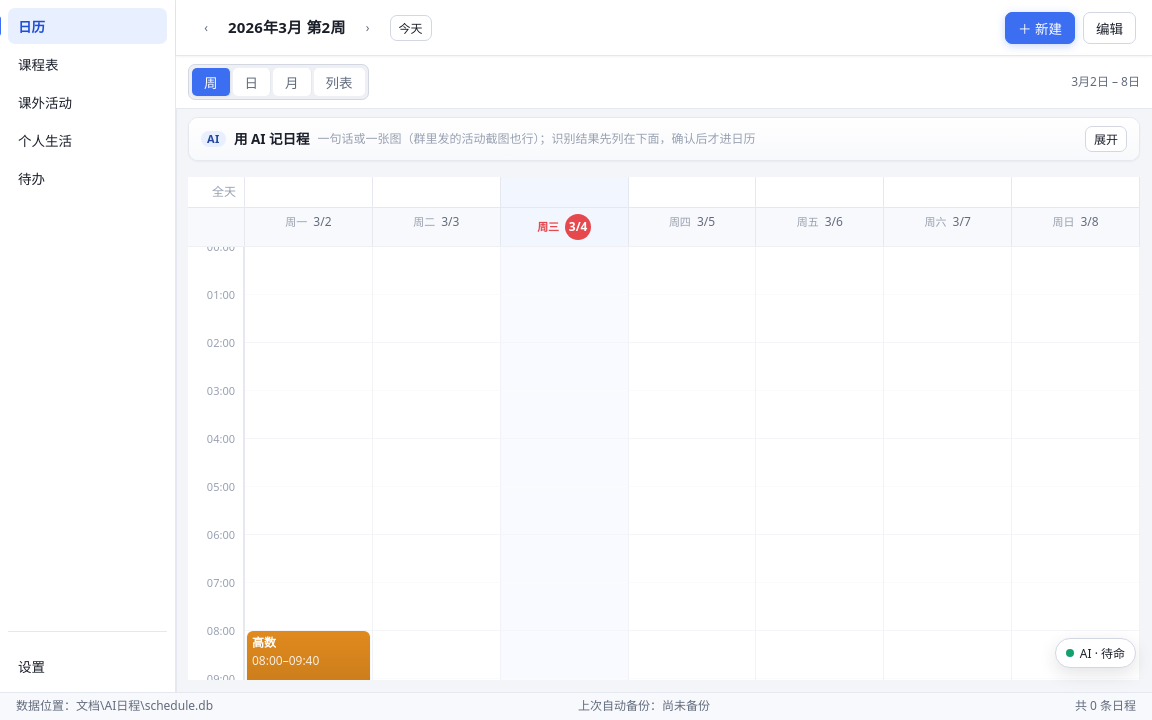
Scenario: 日历页 · 详情与编辑 › 编辑态双击日程块打开编辑弹窗，字段已预填
Expected: the element with test id "week-allday" is shown, [188, 177, 1140, 208]
Click the button "编辑": (1110, 28) [1083, 12, 1136, 44]
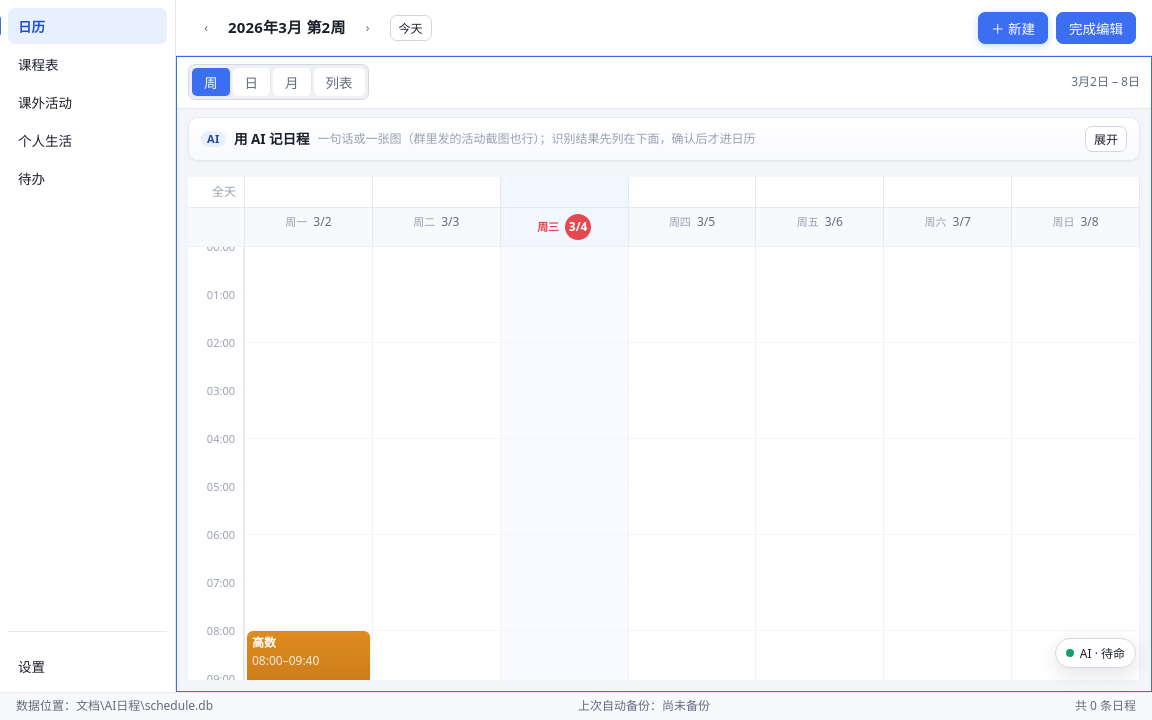
Double-click the button with test id "block-e1": (308, 671) [247, 631, 370, 711]
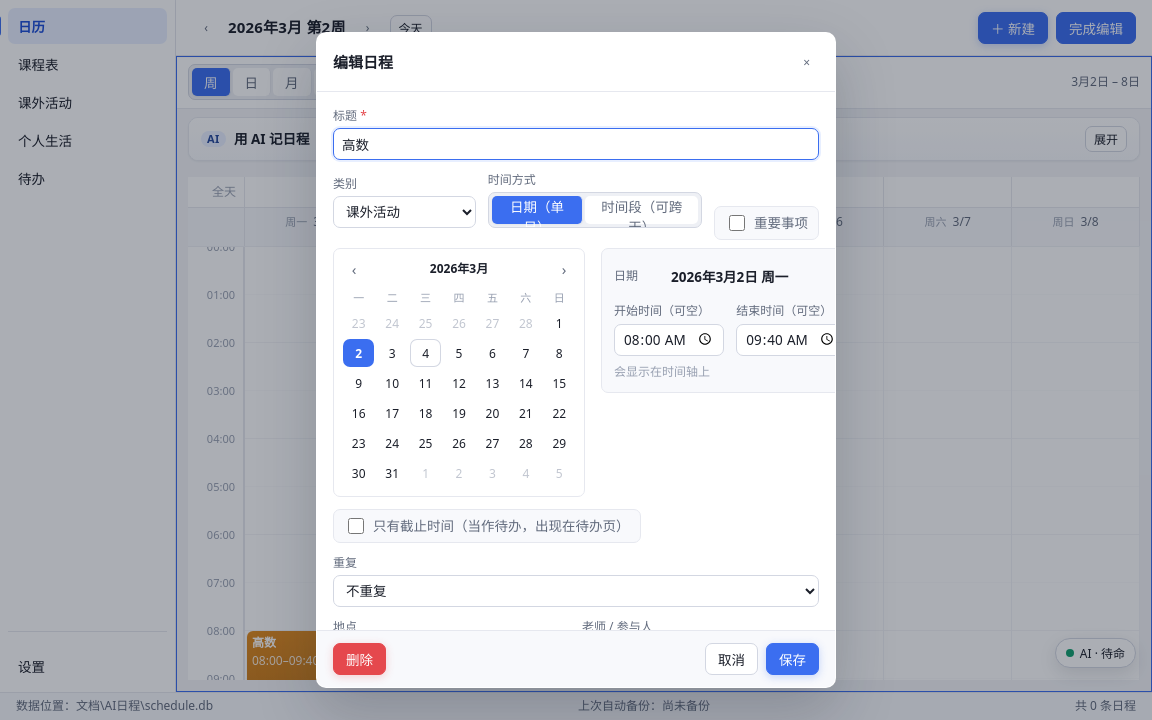
Expected: the field labelled "标题" holds "高数", [333, 128, 819, 160]
